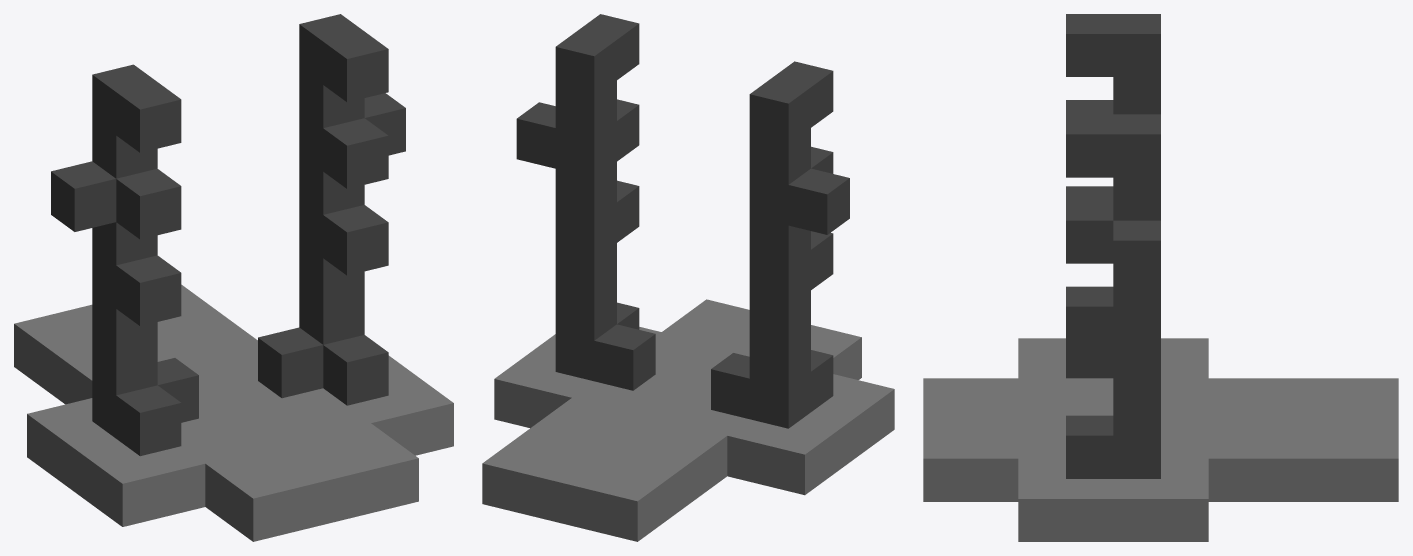
File: Body-45-Transtellar_LandingPod.obj
The picture shows the model from 3 angles, left to right: view 1: azimuth 30°, elevation 25°; view 2: azimuth 150°, elevation 25°; view 3: azimuth 270°, elevation 25°; orthographic projection. The views are drawn at different scales.
Parts seen in each view (by area): view 1: Transtellar_LandingPod; view 2: Transtellar_LandingPod; view 3: Transtellar_LandingPod.
Boxes of the visible parts, box(x1,y1,x2,y2) form: Transtellar_LandingPod: box(14, 14, 453, 541); Transtellar_LandingPod: box(482, 14, 894, 541); Transtellar_LandingPod: box(923, 14, 1398, 541).
Bounding box in the file's own units: 0.8 × 0.9 × 1.
1 material, 1 textured.
